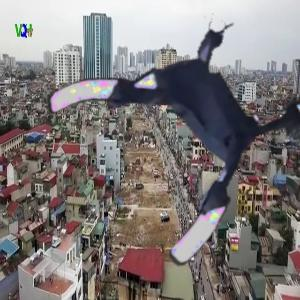drone: (59, 3, 295, 239)
